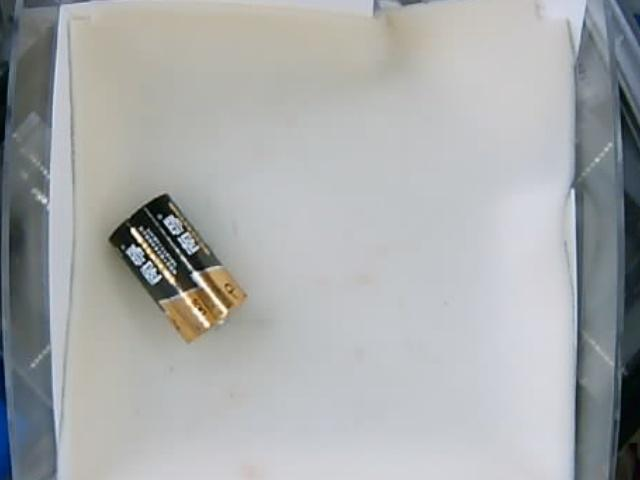Battery: (110, 192, 243, 348)
